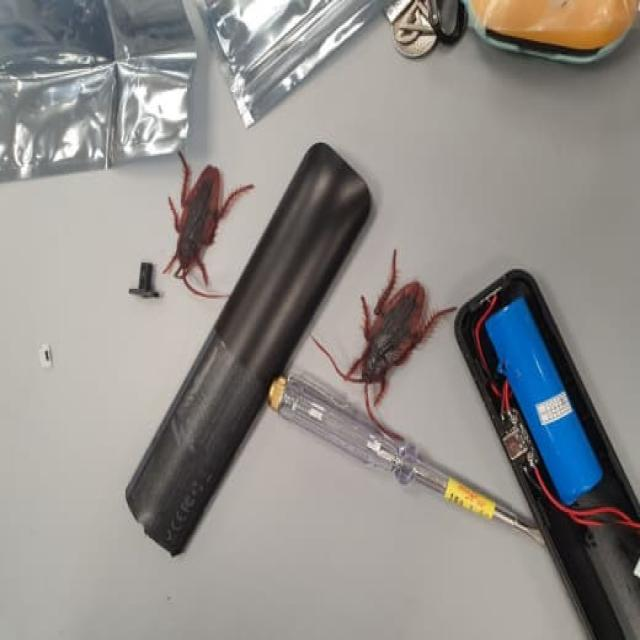Cockroach: (324, 246, 459, 430), (152, 141, 258, 314)
